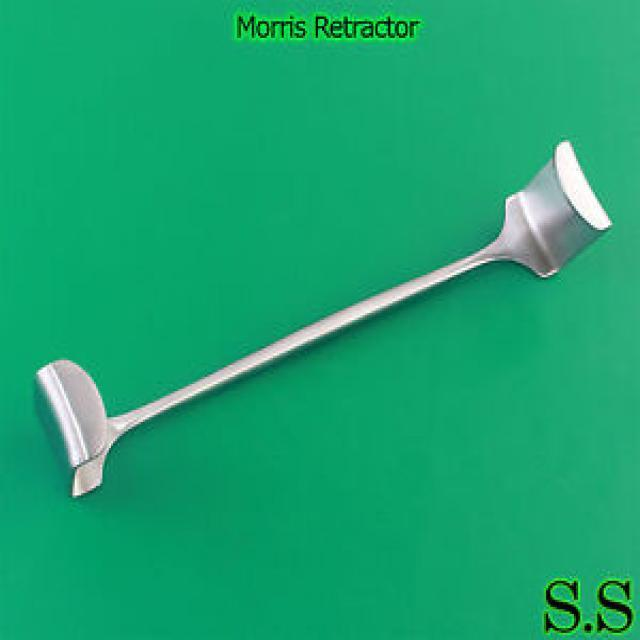Morris Retractor: (482, 130, 620, 282)
